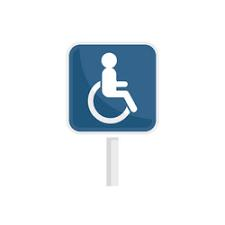Hospital: (60, 33, 167, 137)
